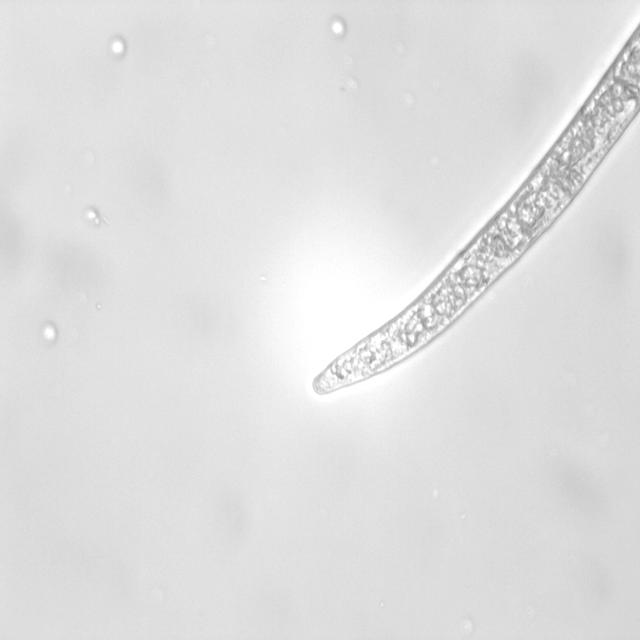Pratylenchus: (301, 0, 640, 401)
